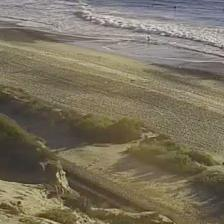surfer: (221, 8, 223, 13), (173, 6, 176, 8)
